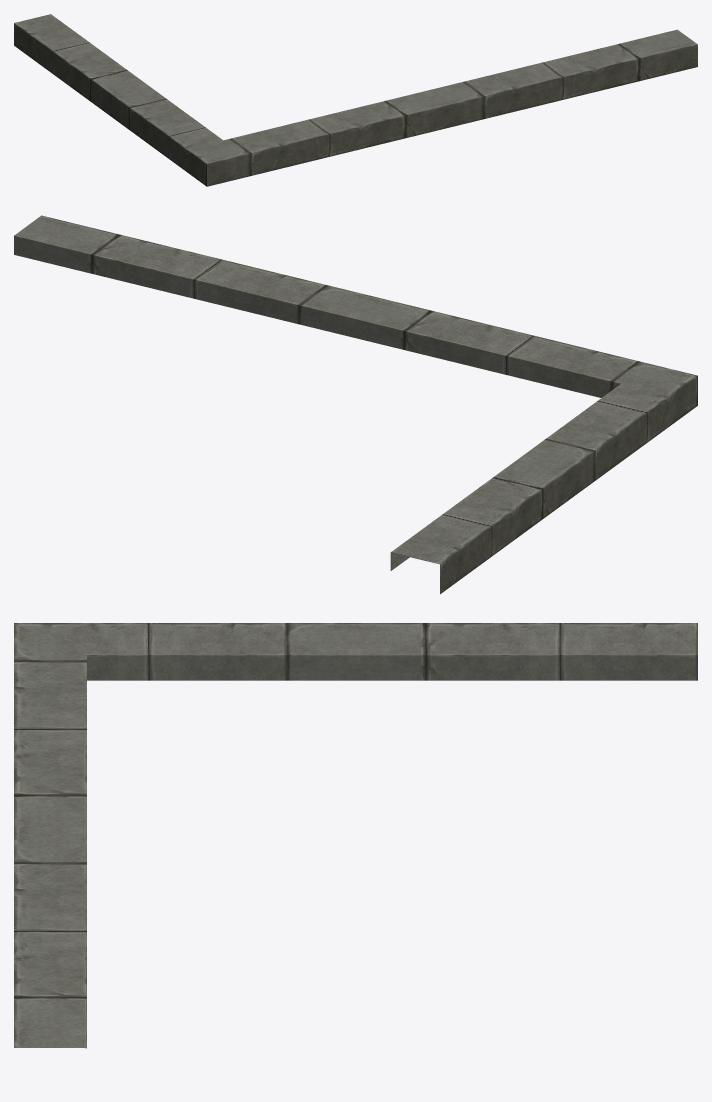
Rendered from JiaYeSi_XiaoShiTiao_1.FBX.
3 views of the same model, one above another, from view 1: azimuth 30°, elevation 25°; view 2: azimuth 150°, elevation 25°; view 3: azimuth 270°, elevation 25° (orthographic). The views are drawn at different scales.
Parts seen in each view (by area): view 1: JiaYeSi_XiaoShiTiao_1; view 2: JiaYeSi_XiaoShiTiao_1; view 3: JiaYeSi_XiaoShiTiao_1.
Boxes of the visible parts, box(x1,y1,x2,y2) form: JiaYeSi_XiaoShiTiao_1: box(14, 14, 697, 186); JiaYeSi_XiaoShiTiao_1: box(14, 215, 697, 594); JiaYeSi_XiaoShiTiao_1: box(14, 623, 697, 1048).
Size of the model in its own units: 918 by 40.25 by 625.
